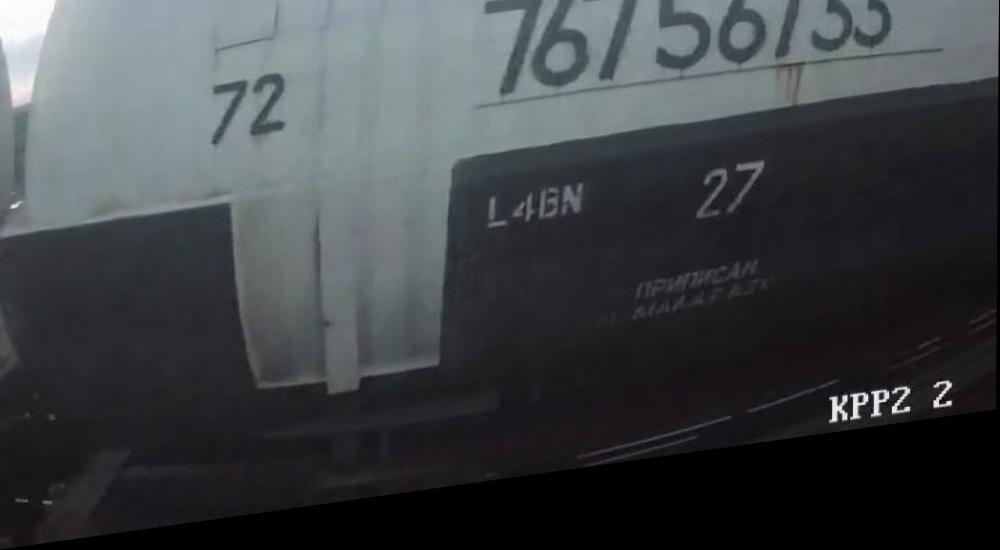Wagon-number: (478, 0, 897, 122)
